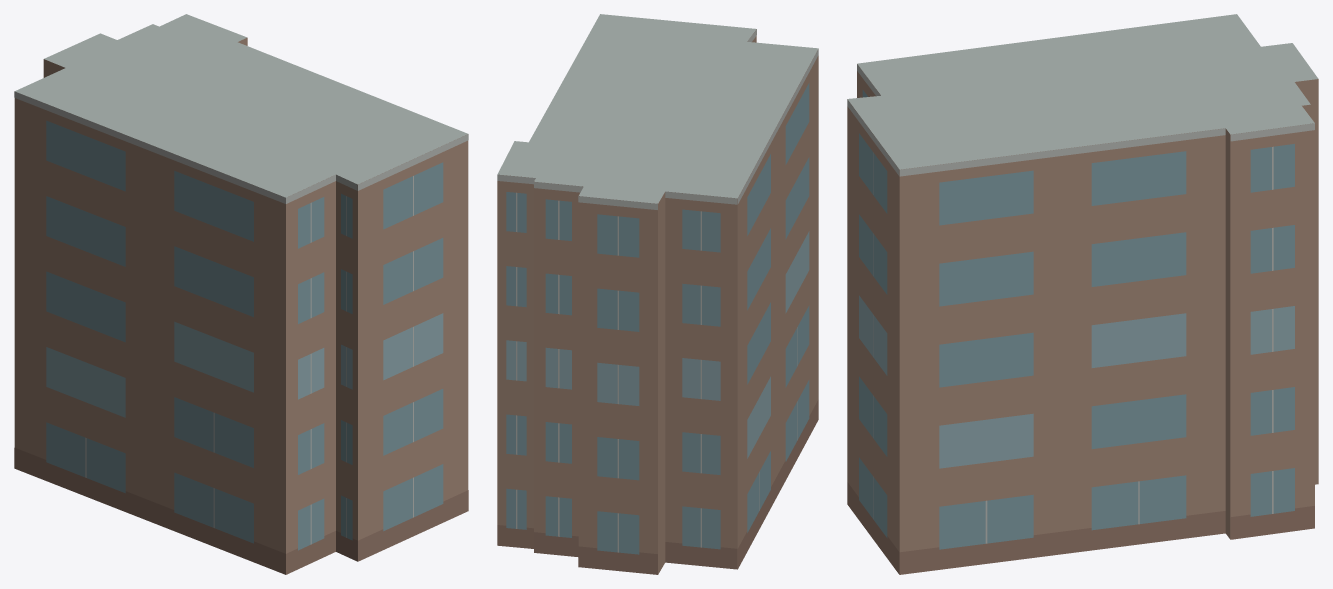
File: survey-upis-32976343.glb
3 views of the same model, side by side, from view 1: azimuth 30°, elevation 25°; view 2: azimuth 150°, elevation 25°; view 3: azimuth 270°, elevation 25° (orthographic). The views are drawn at different scales.
Parts seen in each view (by area): view 1: survey-upis-32976343.tmp; view 2: survey-upis-32976343.tmp; view 3: survey-upis-32976343.tmp.
Part boxes in pixels (x1,y1,x2,y2): survey-upis-32976343.tmp: [14, 14, 468, 574]; survey-upis-32976343.tmp: [497, 14, 818, 574]; survey-upis-32976343.tmp: [847, 14, 1318, 574].
Bounding box in the file's own units: 11.71 × 14.2 × 14.98.
